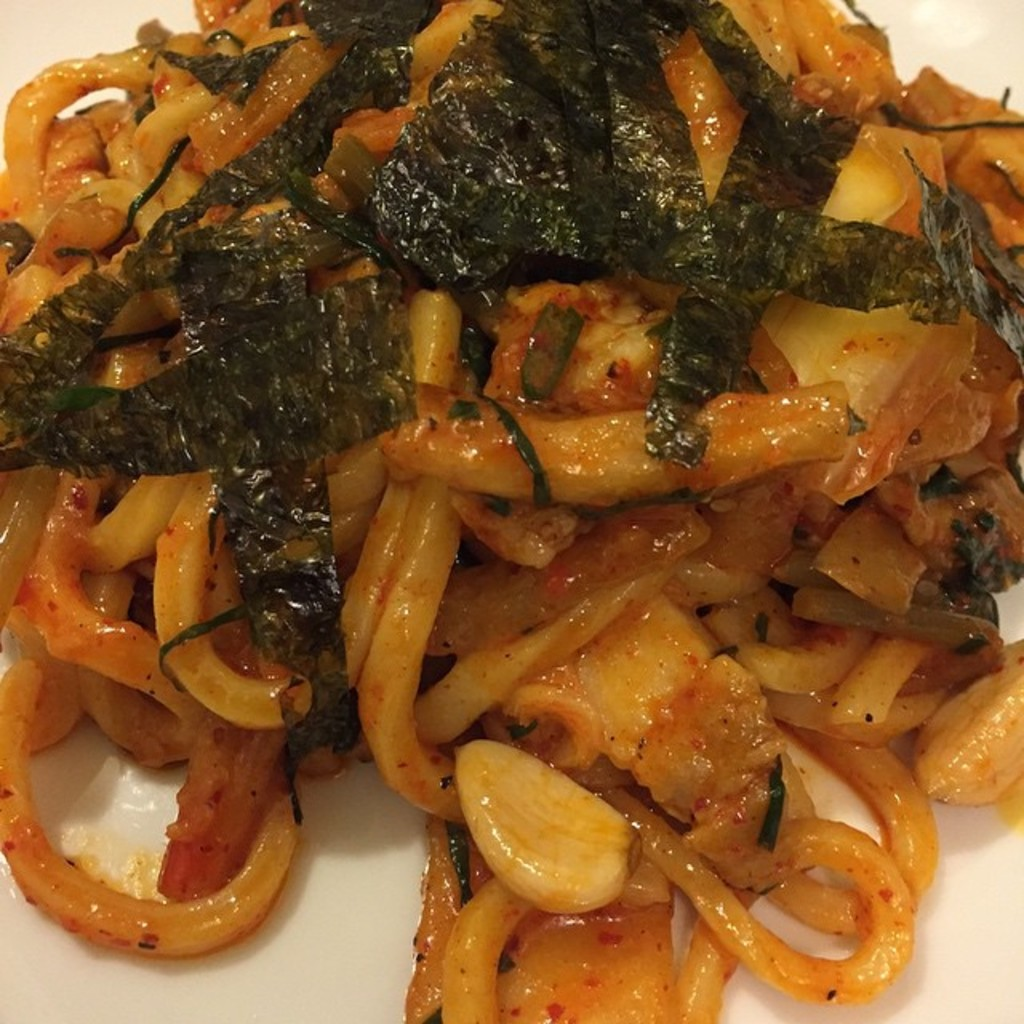pasta: (27, 40, 1024, 1024)
